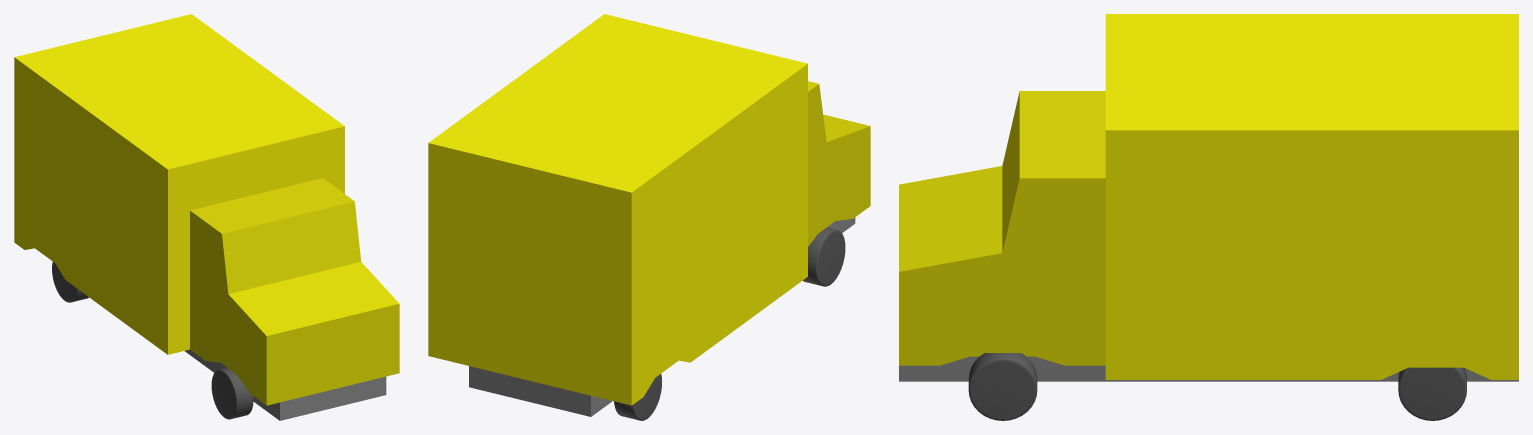
File: Truck.fbx
3 renders of one model, left to right at view 1: azimuth 30°, elevation 25°; view 2: azimuth 150°, elevation 25°; view 3: azimuth 270°, elevation 25°, orthographic. The views are drawn at different scales.
Parts seen in each view (by area): view 1: Kasten; view 2: Kasten; view 3: Kasten.
Boxes of the visible parts, x1,y1,x2,y2 form: Kasten: (14,14,399,420); Kasten: (428,14,870,420); Kasten: (899,14,1518,420).
Size of the model in its own units: 1000 by 1213 by 2250.
